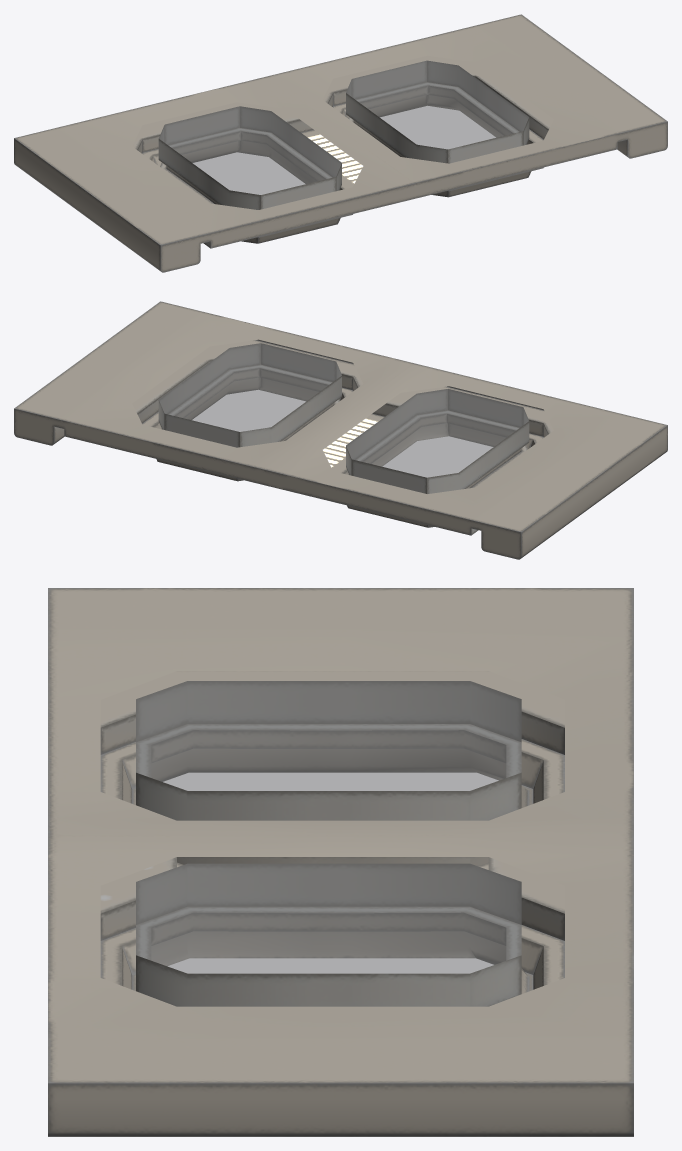
Rendered from ceiling_window_and_frame.glb.
3 views of the same model, one above another, from view 1: azimuth 30°, elevation 25°; view 2: azimuth 150°, elevation 25°; view 3: azimuth 270°, elevation 25° (orthographic). The views are drawn at different scales.
Visible parts, largest first — view 1: SM_ceiling_window; view 2: SM_ceiling_window; view 3: SM_ceiling_window.
Part boxes in pixels (left/top/right/bottom): SM_ceiling_window: left=14, top=14, right=667, bottom=272; SM_ceiling_window: left=14, top=301, right=667, bottom=559; SM_ceiling_window: left=48, top=588, right=633, bottom=1136.
Bounding box in the file's own units: 8 × 0.7077 × 4.
Materials: 2 (2 with a texture image).
